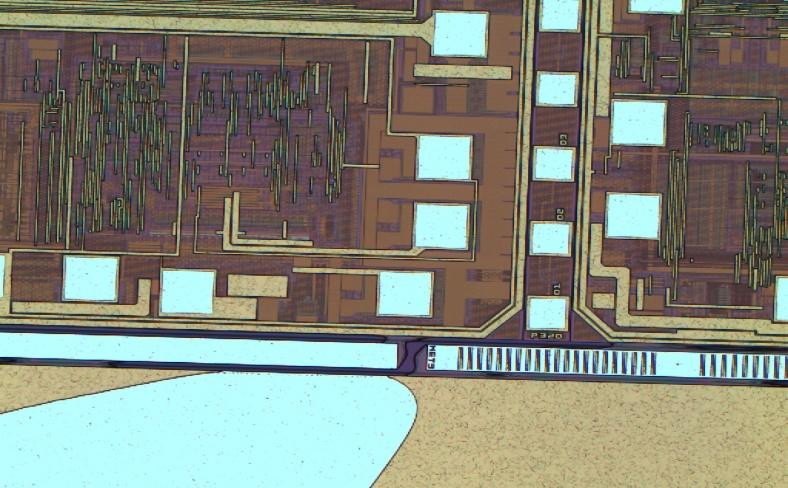COATING BAD: (1, 372, 421, 488)
